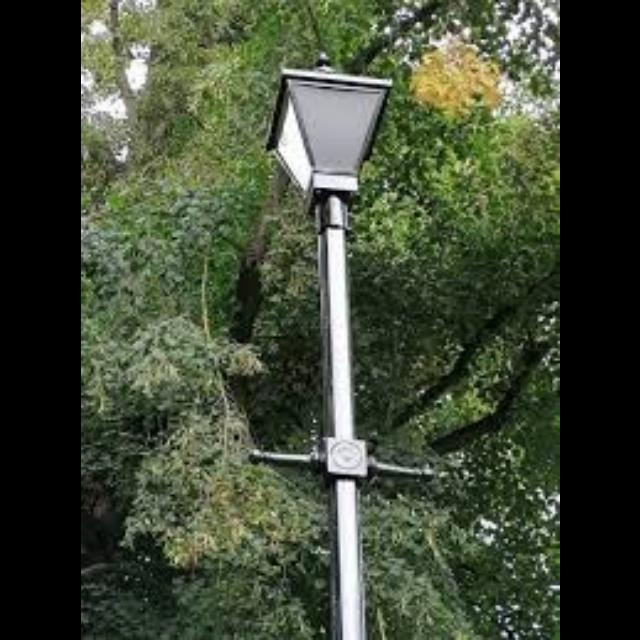Street-Lamp: (241, 42, 451, 640)
